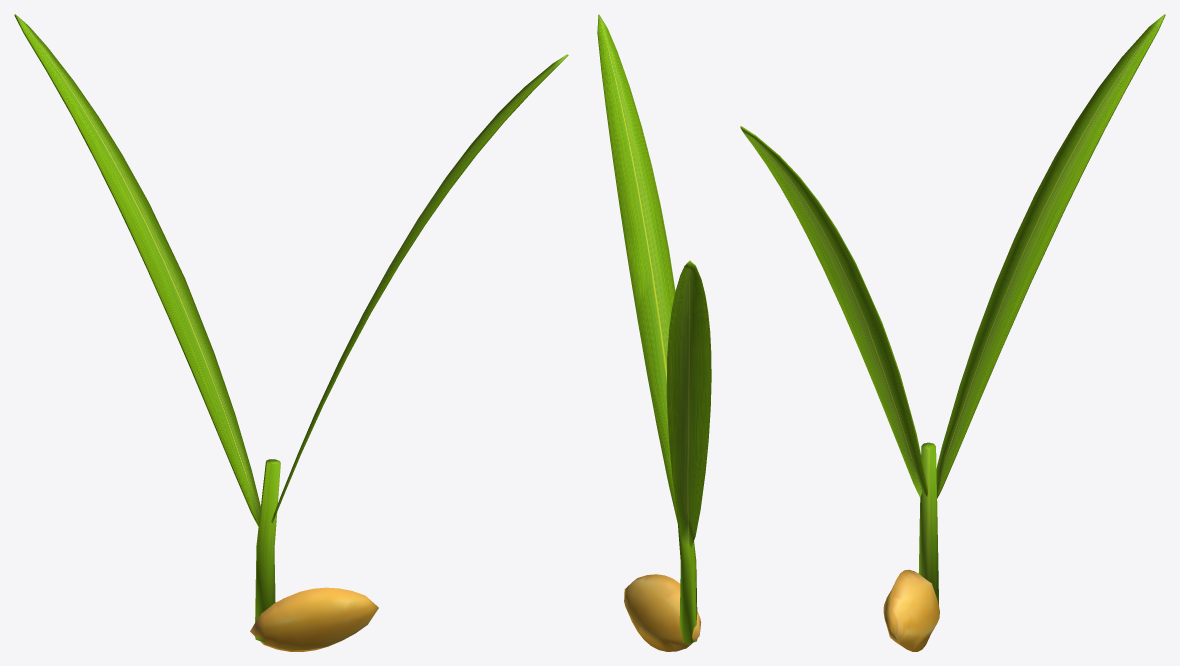
File: NP_Wheat_Sprout_LOD1.fbx
The picture shows the model from 3 angles, left to right: view 1: azimuth 30°, elevation 25°; view 2: azimuth 150°, elevation 25°; view 3: azimuth 270°, elevation 25°; orthographic projection. The views are drawn at different scales.
Parts seen in each view (by area): view 1: NP_Wheat_Sprout; view 2: NP_Wheat_Sprout; view 3: NP_Wheat_Sprout.
Part boxes in pixels (x1,y1,x2,y2): NP_Wheat_Sprout: (14,14,568,651); NP_Wheat_Sprout: (597,14,711,651); NP_Wheat_Sprout: (740,14,1165,651).
Size of the model in its own units: 20.75 by 37.68 by 24.35.
